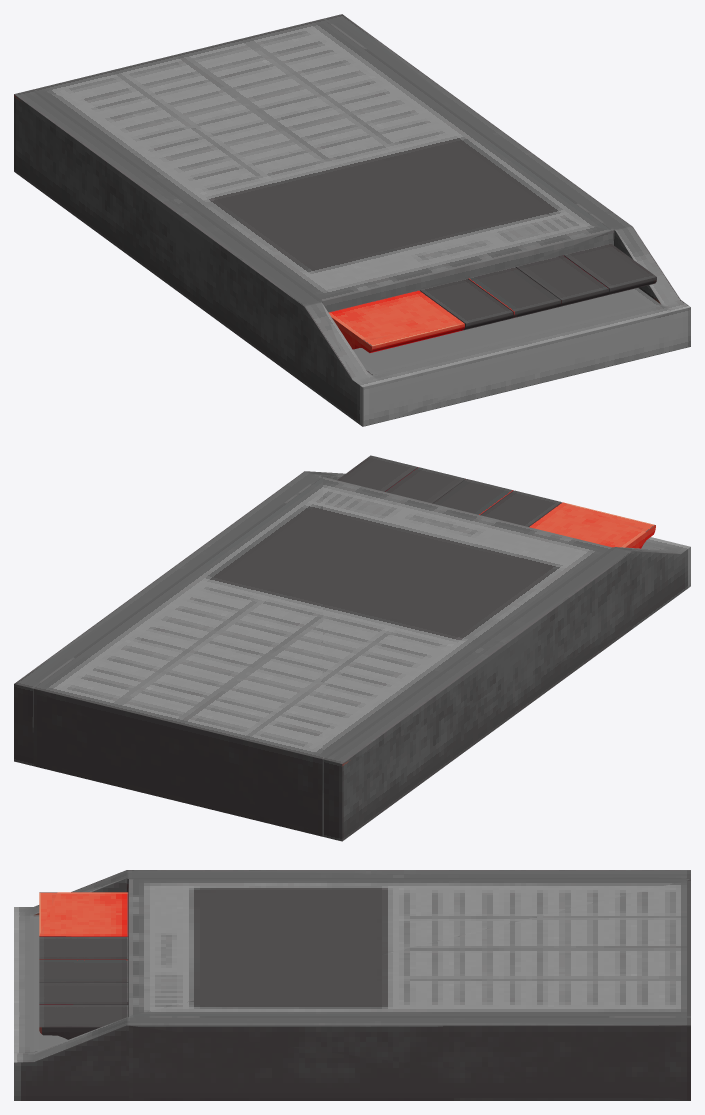
The model's file is tape_recorder.glb.
The picture shows the model from 3 angles, top to bottom: view 1: azimuth 30°, elevation 25°; view 2: azimuth 150°, elevation 25°; view 3: azimuth 270°, elevation 25°; orthographic projection. The views are drawn at different scales.
Visible parts, largest first — view 1: mesh; view 2: mesh; view 3: mesh.
Boxes of the visible parts, x1,y1,x2,y2 form: mesh: [14, 14, 690, 426]; mesh: [14, 455, 690, 841]; mesh: [14, 870, 690, 1100].
Size of the model in its own units: 0.4432 by 0.1 by 0.8152.
1 material, 1 textured.
